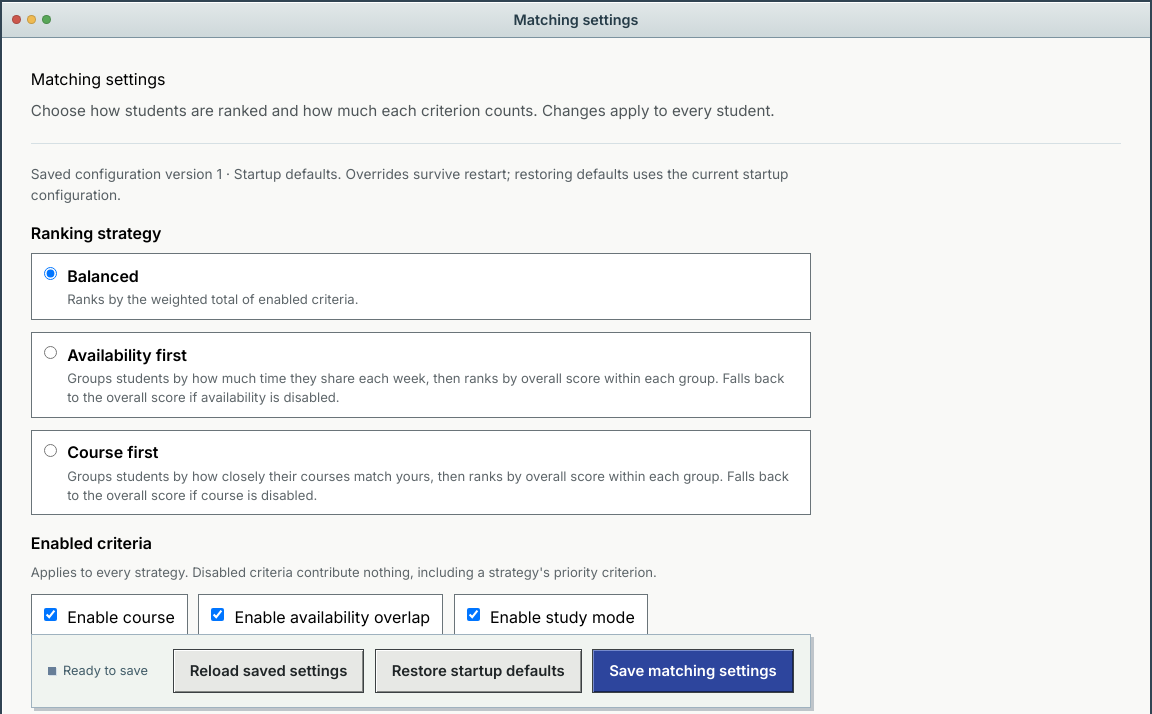
Test: admin matching settings › shows all five weights including each strategy priority criterion
Step 1. Click the radio button labelled "Availability first" → (50, 352), box [44,346,57,359]
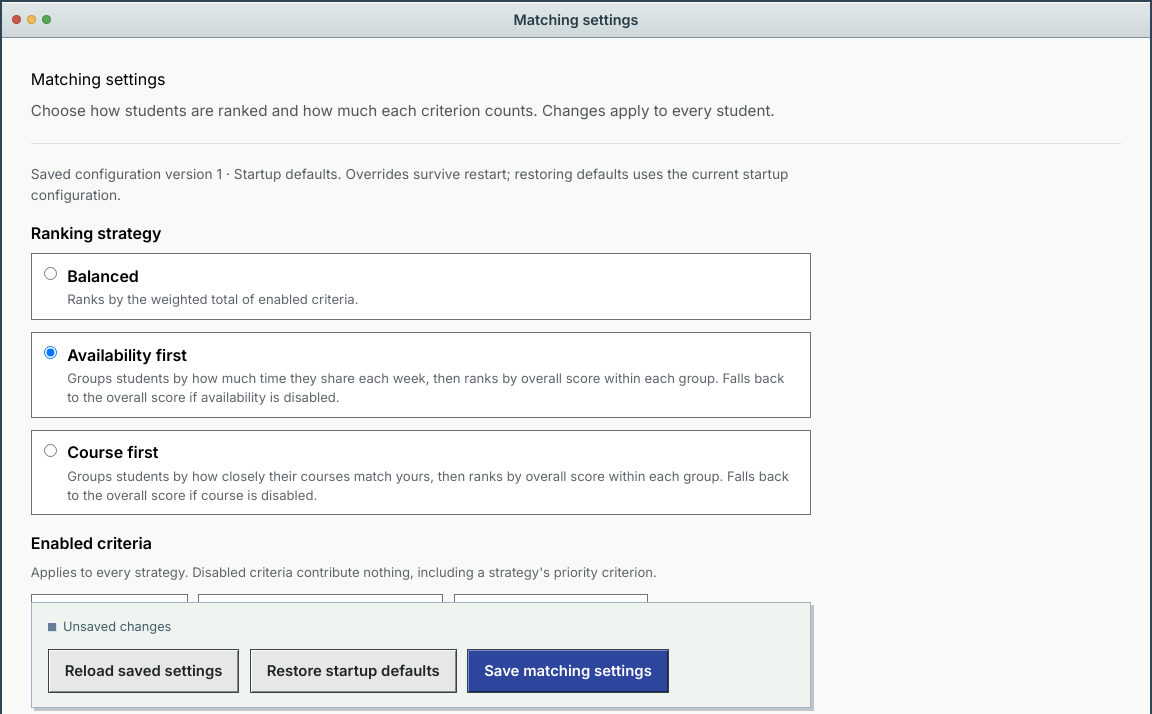
Step 2. Click the radio button labelled "Course first" → (50, 450), box [44,444,57,456]
(page scrolled)
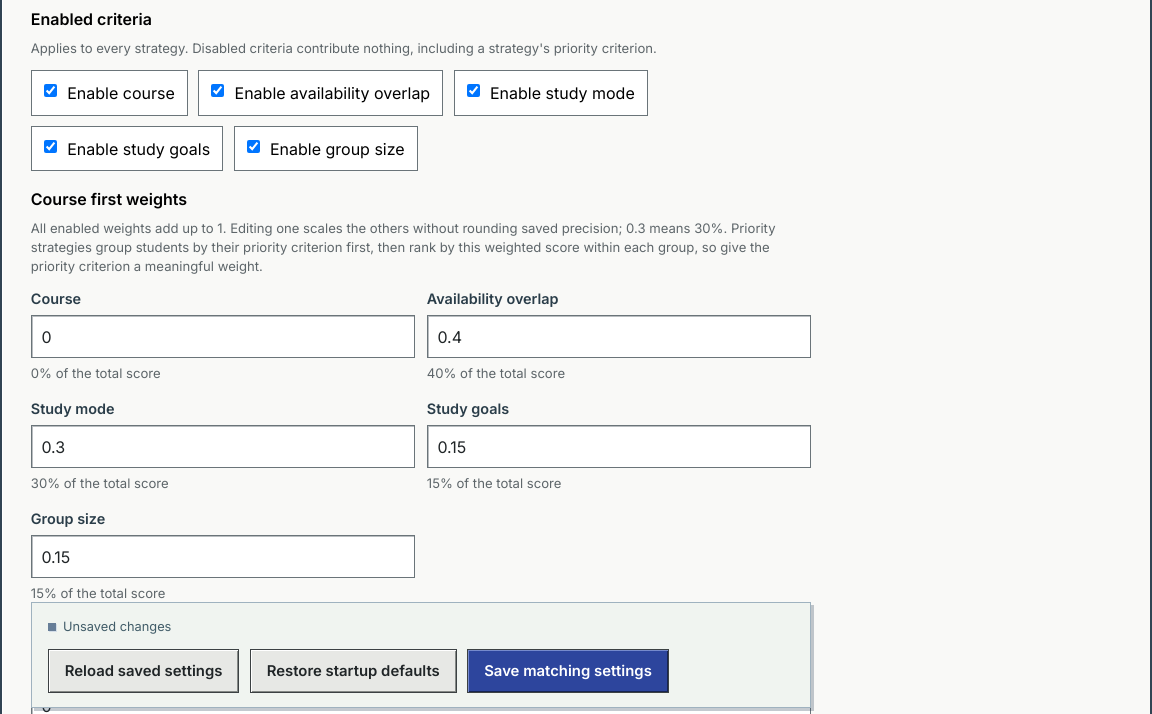
expect the number field labelled "Course" holds "0": met, box [31,316,415,358]
expect the number field labelled "Availability overlap" holds "0.4": met, box [427,316,811,358]
